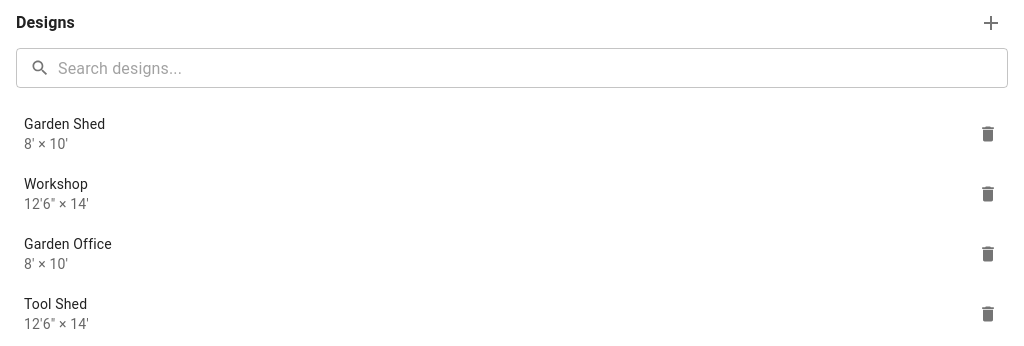
it: DesignList › shows no-results message when search matches nothing
Type "zzz" into the field with placeholder "Search designs..." at (533, 68), box top-left (58, 48), bottom-right (1008, 88)
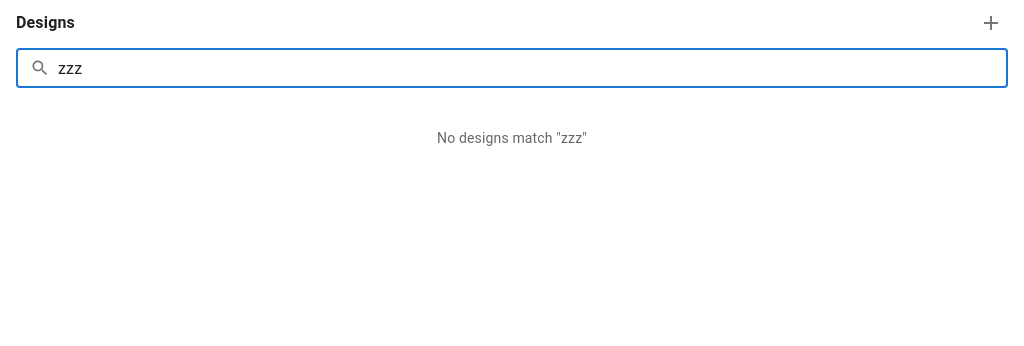
Expected: the text "No designs match \"zzz\"" is shown, top-left (437, 130), bottom-right (587, 146)
